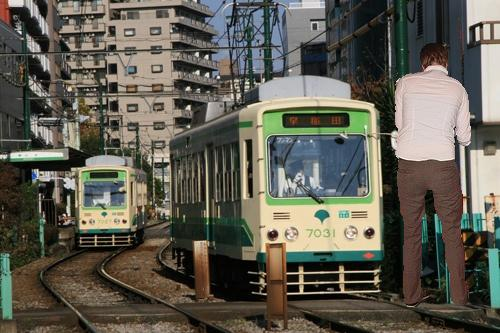tampered: (395, 44, 471, 307)
